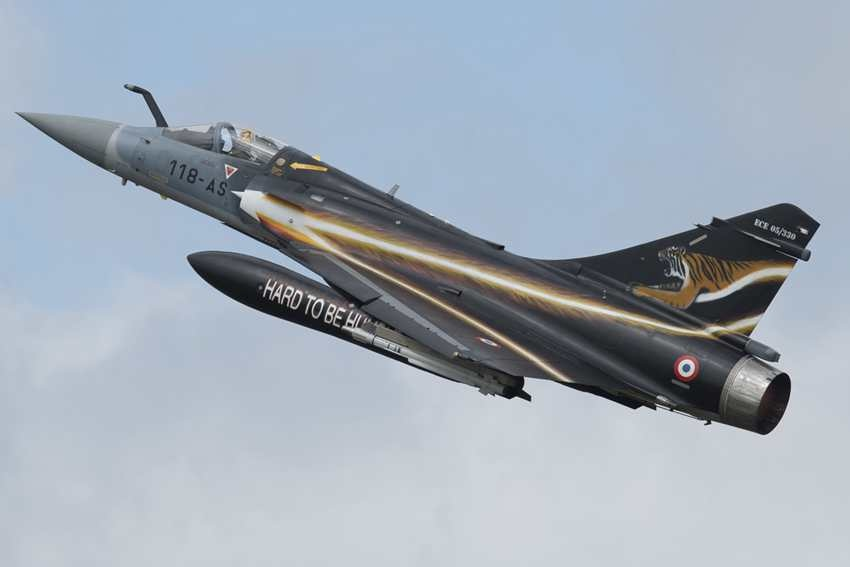airplane: (7, 75, 814, 437)
